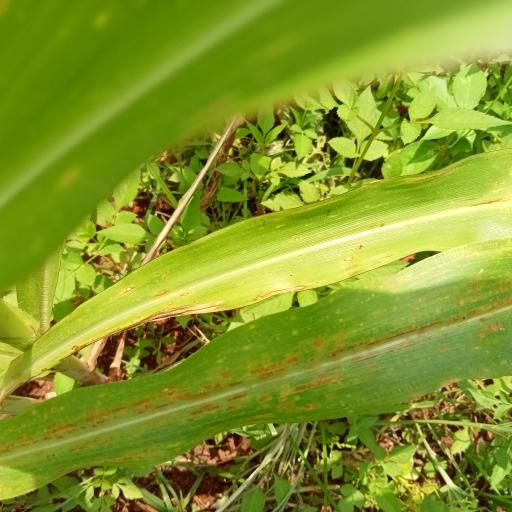Corn_Brown_Spots: (10, 118, 512, 390), (9, 266, 512, 494)
